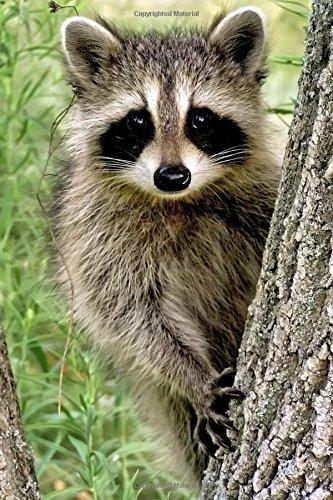raccoon: (45, 8, 287, 486)
